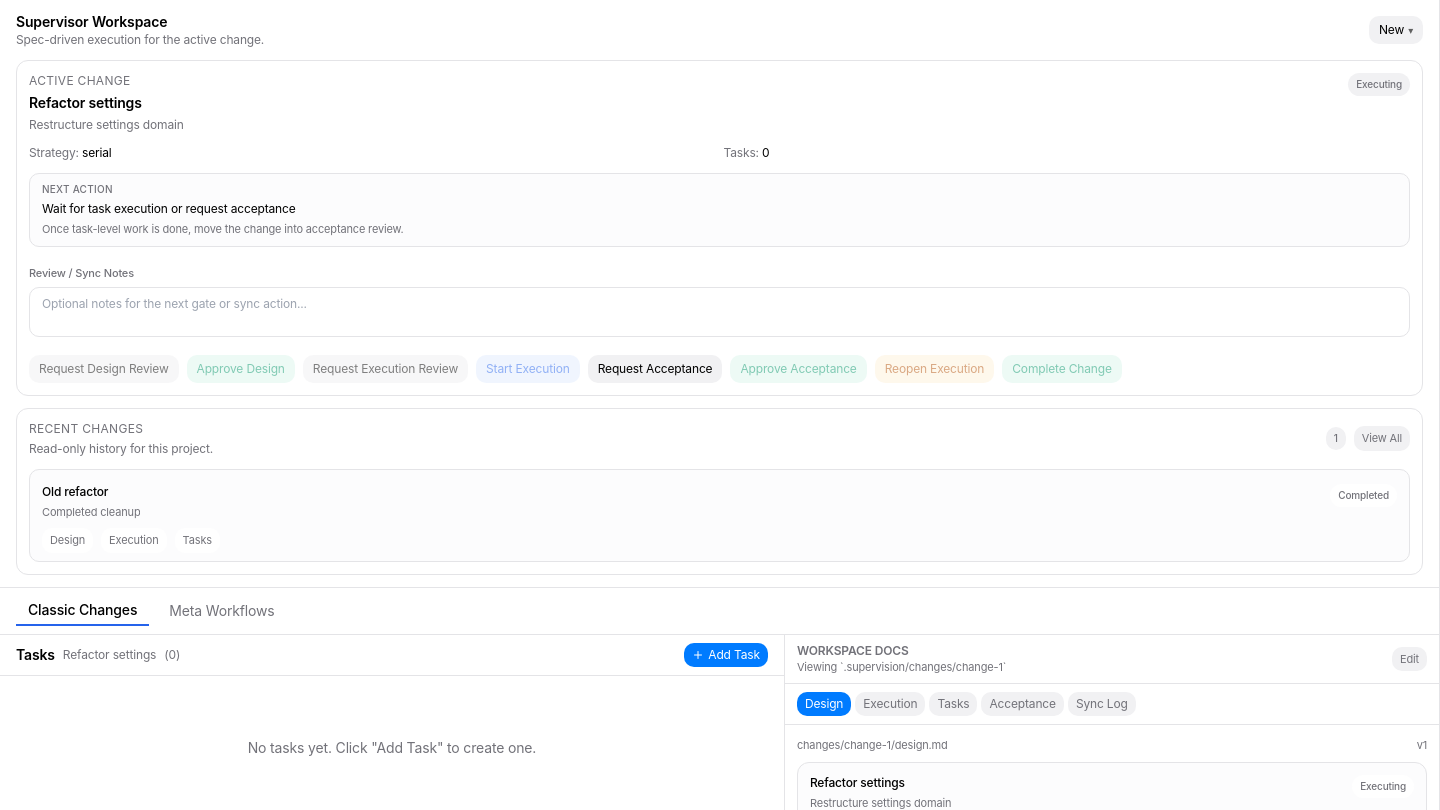
Test: SupervisorWorkspacePanel › switches doc preview to a historical change
Expected: the text "Old refactor" is shown, [42,484,108,498]
Click the button with aria-label "Preview Old refactor": (75, 491) [42,484,1397,520]
(page scrolled)
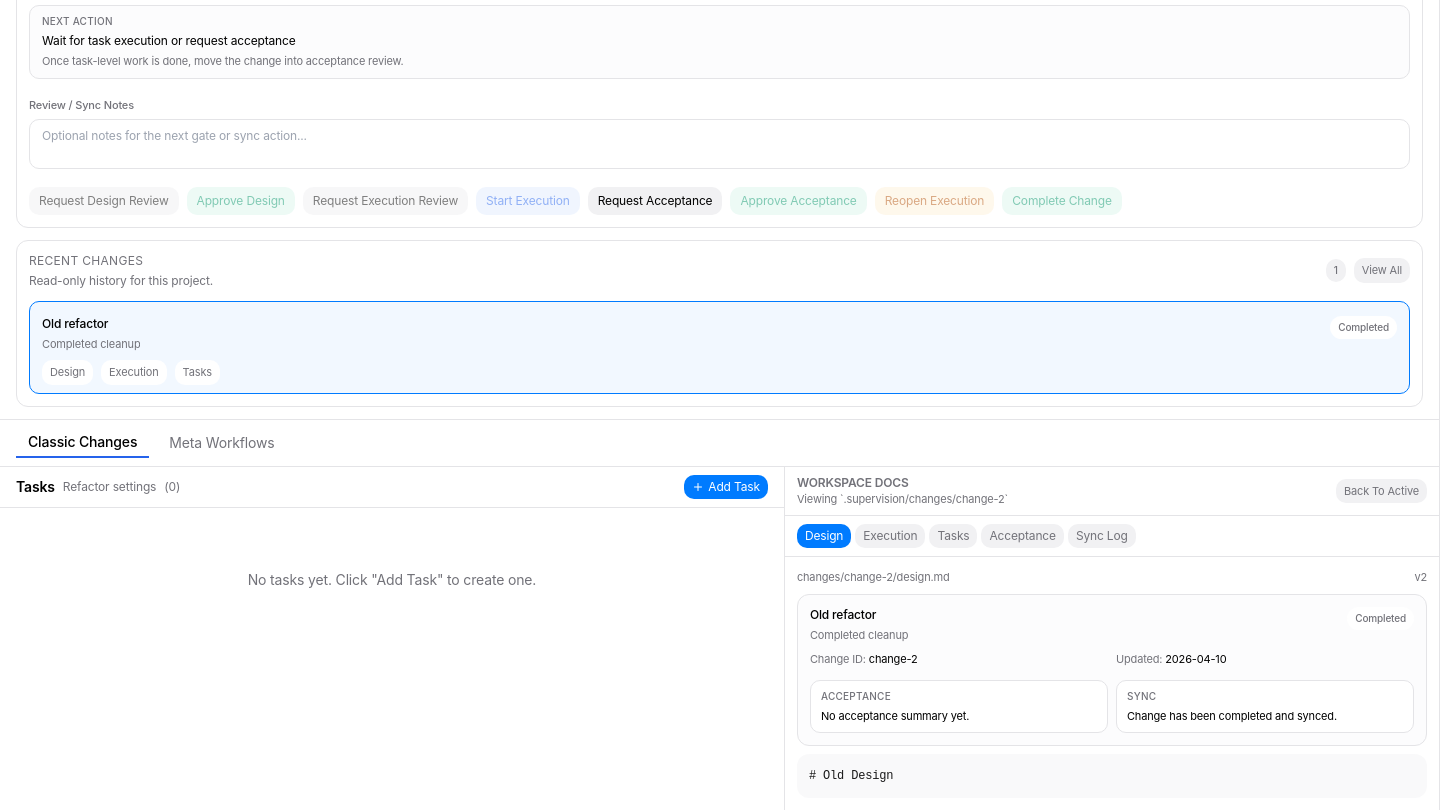
Result: the text "Viewing `.supervision/changes/change-2`" is shown at [797,490,1008,507]
Result: the text "# Old Design" is shown at [797,754,1427,798]
Result: the button "Back To Active" is shown at [1336,478,1427,503]
